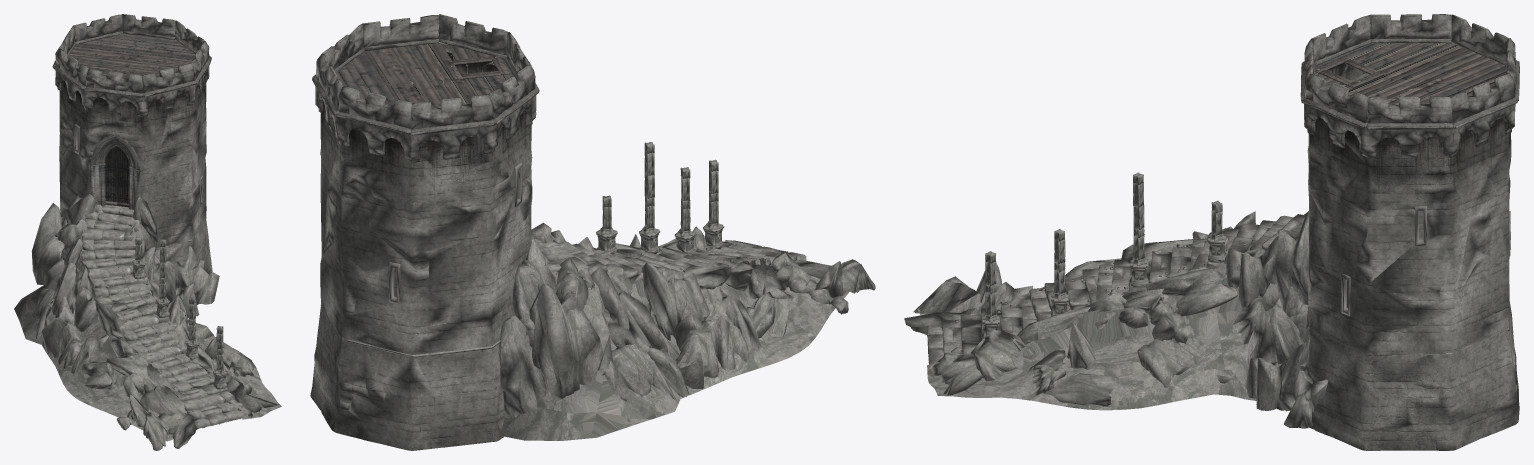
The model's file is Muspelheim_Surt_Army_Tower.glb.
3 views of the same model, side by side, from view 1: azimuth 30°, elevation 25°; view 2: azimuth 150°, elevation 25°; view 3: azimuth 270°, elevation 25° (orthographic). The views are drawn at different scales.
Parts seen in each view (by area): view 1: steTower.Shape, steSteps.Shape, steRocks02.Shape, steRocks01.Shape, steRocks03.Shape, steTerrain.Shape, steTowerWood.Shape, steDoor01.Shape, steDoor02.Shape, steColumn03.Shape, steColumn08.Shape, steColumn01.Shape; view 2: steTower.Shape, steRocks03.Shape, steRocks02.Shape, steTerrain.Shape, steTowerWood.Shape, steSteps.Shape, steRocks01.Shape, steColumn03.Shape, steColumn08.Shape, steColumn01.Shape; view 3: steTower.Shape, steRocks01.Shape, steTerrain.Shape, steSteps.Shape, steTowerWood.Shape, steRocks02.Shape, steColumn03.Shape, steColumn08.Shape.
Part boxes in pixels (x1=…): steTower.Shape: x1=52, y1=14, x2=212, y2=304; steSteps.Shape: x1=80, y1=204, x2=248, y2=428; steRocks02.Shape: x1=41, y1=264, x2=197, y2=450; steRocks01.Shape: x1=128, y1=196, x2=278, y2=416; steRocks03.Shape: x1=31, y1=194, x2=103, y2=347; steTerrain.Shape: x1=14, y1=219, x2=281, y2=441; steTowerWood.Shape: x1=67, y1=33, x2=195, y2=78; steDoor01.Shape: x1=105, y1=146, x2=117, y2=205; steDoor02.Shape: x1=117, y1=147, x2=129, y2=207; steColumn03.Shape: x1=185, y1=296, x2=199, y2=359; steColumn08.Shape: x1=132, y1=237, x2=145, y2=279; steColumn01.Shape: x1=213, y1=353, x2=227, y2=389; steTower.Shape: x1=310, y1=14, x2=539, y2=450; steRocks03.Shape: x1=499, y1=239, x2=688, y2=417; steRocks02.Shape: x1=641, y1=252, x2=875, y2=388; steTerrain.Shape: x1=498, y1=238, x2=849, y2=440; steTowerWood.Shape: x1=336, y1=43, x2=516, y2=108; steSteps.Shape: x1=531, y1=234, x2=806, y2=284; steRocks01.Shape: x1=531, y1=222, x2=707, y2=252; steColumn03.Shape: x1=674, y1=167, x2=695, y2=253; steColumn08.Shape: x1=596, y1=195, x2=617, y2=254; steColumn01.Shape: x1=703, y1=199, x2=724, y2=248; steTower.Shape: x1=1300, y1=14, x2=1519, y2=450; steRocks01.Shape: x1=931, y1=212, x2=1328, y2=428; steTerrain.Shape: x1=917, y1=240, x2=1266, y2=410; steSteps.Shape: x1=927, y1=214, x2=1305, y2=369; steTowerWood.Shape: x1=1314, y1=42, x2=1505, y2=104; steRocks02.Shape: x1=904, y1=211, x2=1255, y2=334; steColumn03.Shape: x1=1051, y1=229, x2=1068, y2=316; steColumn08.Shape: x1=1207, y1=200, x2=1226, y2=262.
Size of the model in its own units: 1.03 by 1.07 by 1.66.
Materials: 9 (9 with a texture image).
